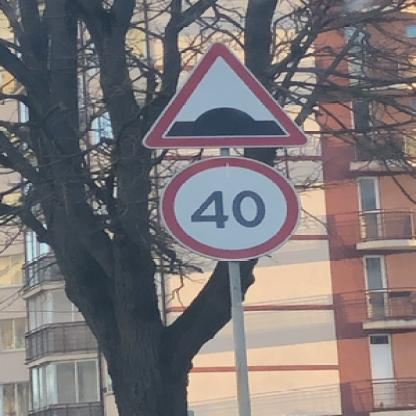Speed Limit 40: (163, 159, 299, 261)
